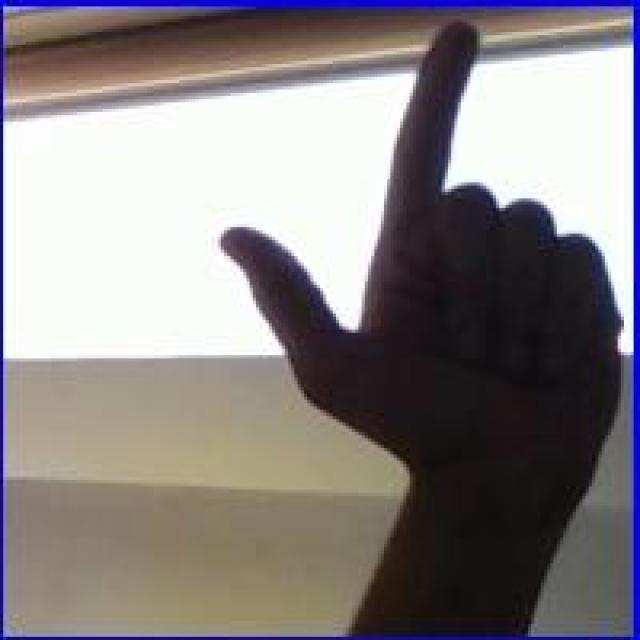L: (221, 19, 630, 550)
